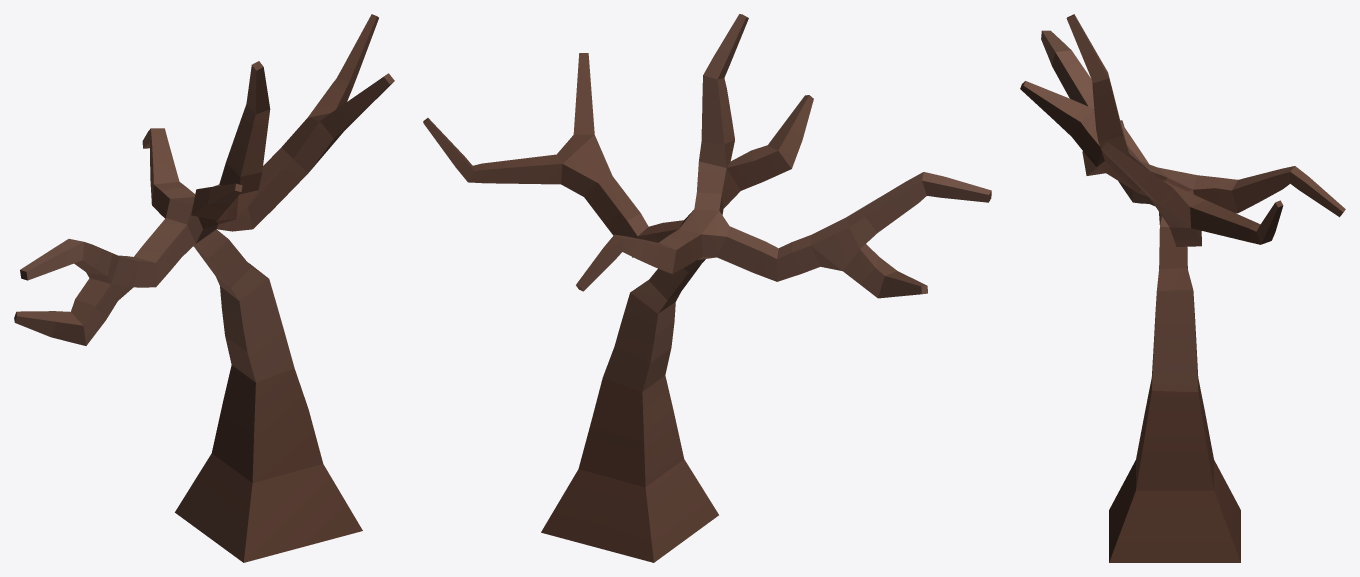
The model's file is arvores seca 2.fbx.
The picture shows the model from 3 angles, left to right: view 1: azimuth 30°, elevation 25°; view 2: azimuth 150°, elevation 25°; view 3: azimuth 270°, elevation 25°; orthographic projection. The views are drawn at different scales.
Visible parts, largest first — view 1: Cube.002; view 2: Cube.002; view 3: Cube.002.
Part boxes in pixels (x1,y1,x2,y2): Cube.002: (14, 14, 394, 562); Cube.002: (423, 14, 991, 562); Cube.002: (1020, 14, 1345, 562).
Size of the model in its own units: 461 by 476 by 285.
Materials: 1 (1 with a texture image).
